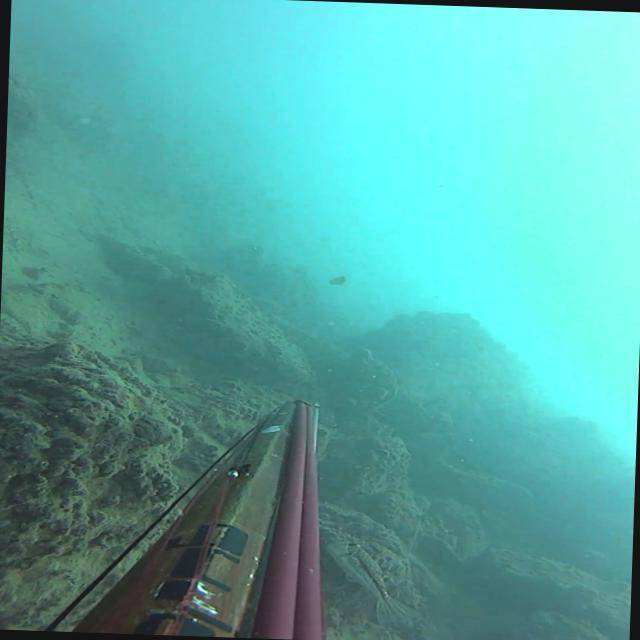Balon Baligi: (322, 538, 417, 624), (329, 274, 345, 284)
